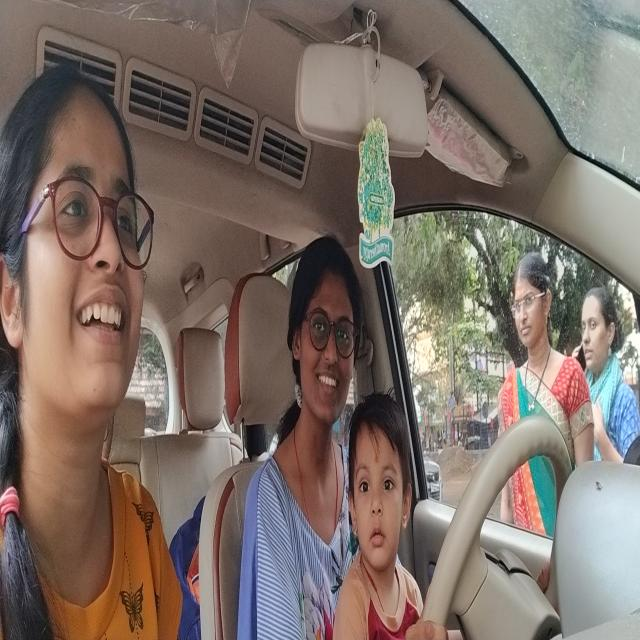child: (344, 387, 414, 568)
person: (0, 52, 163, 484), (285, 221, 366, 427)
